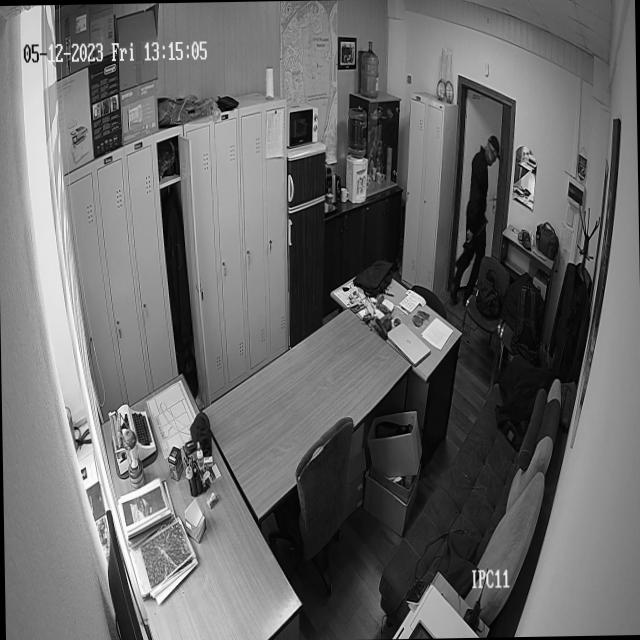gun: (452, 212, 489, 268)
person with a gun: (446, 132, 504, 306)
